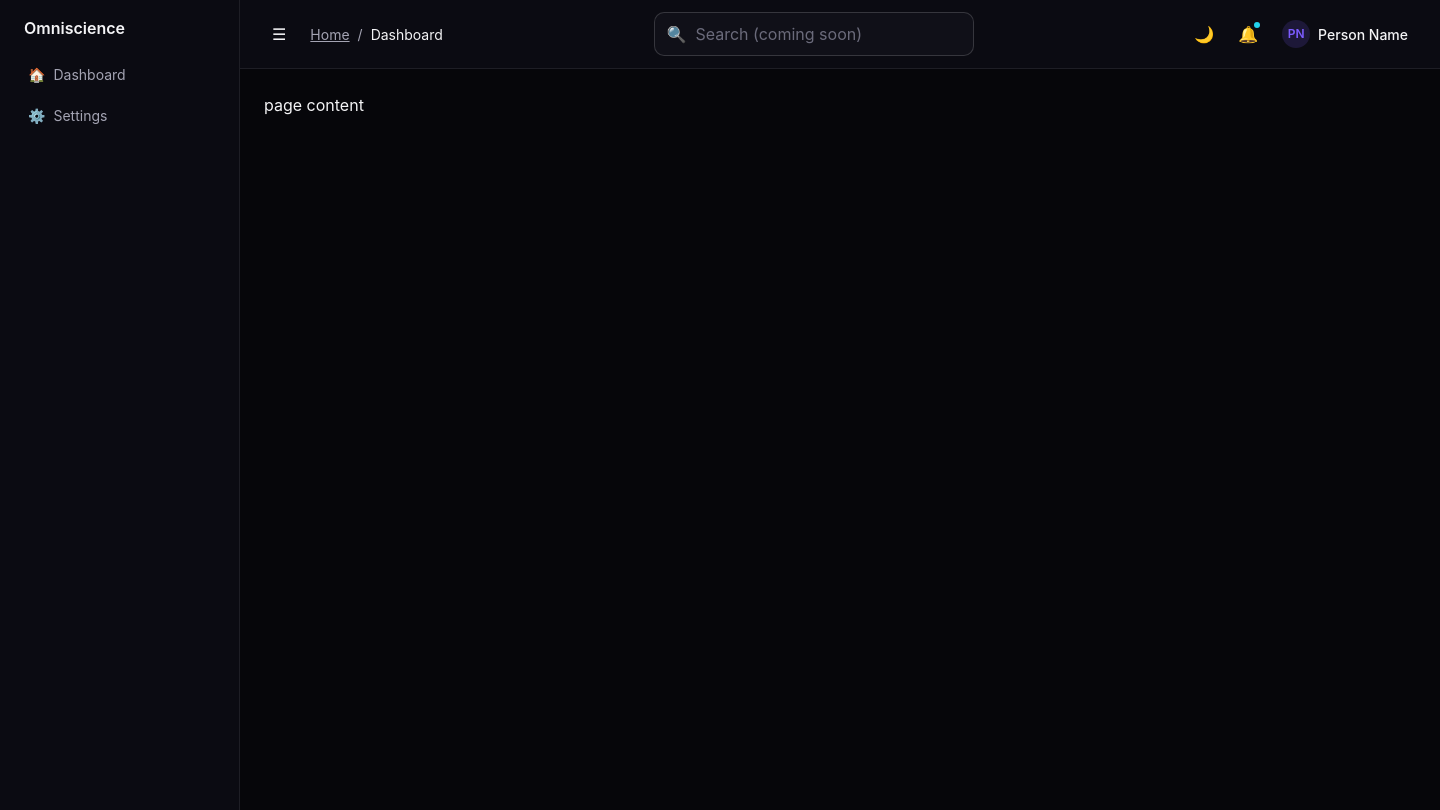
Test: AppShell › desktop (>1024px) › collapses on the first click and expands again on the second — the hamburger always stays usable
Step 1. Click the button named "Collapse navigation" → click(279, 34), box [264,14,294,54]
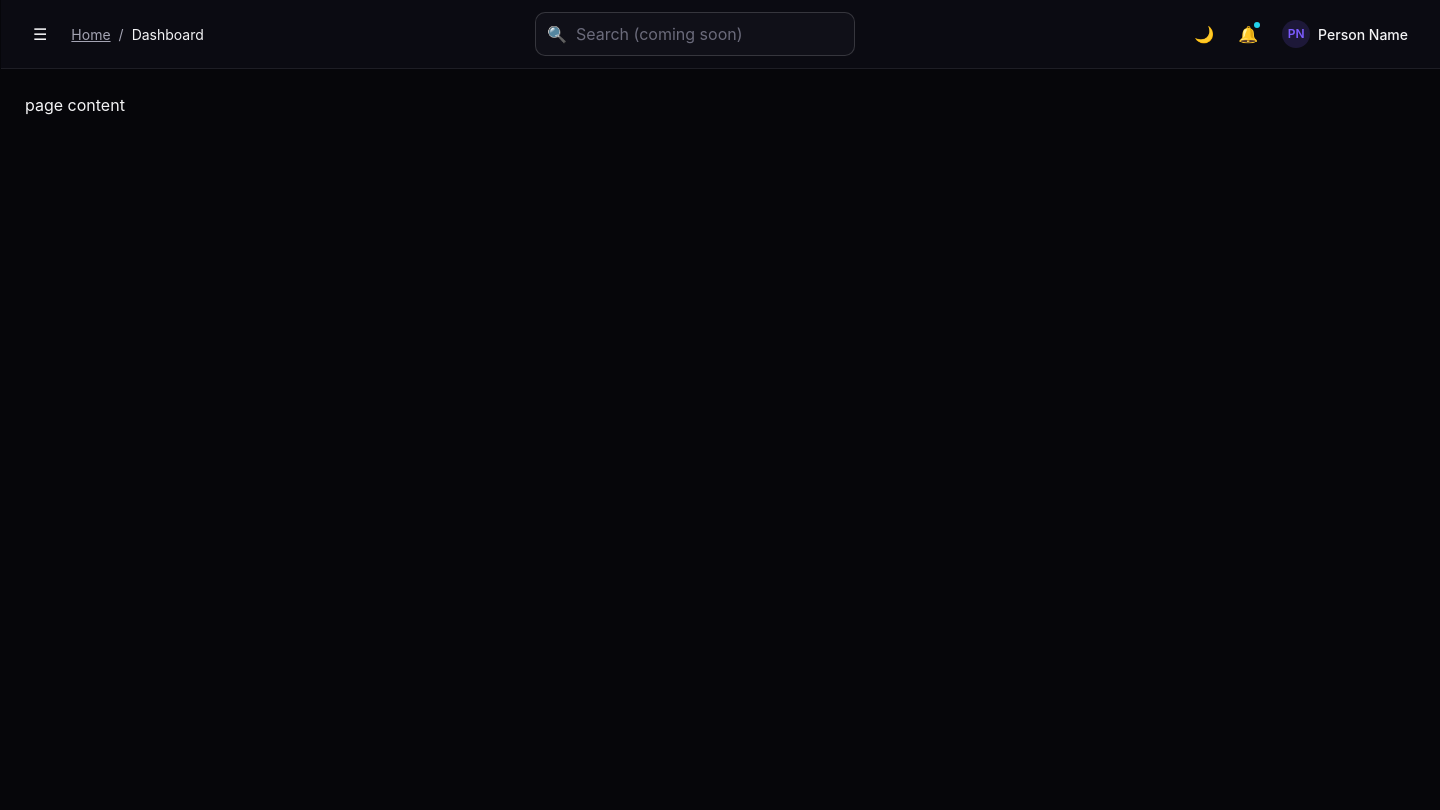
Expected: the button named "Expand navigation" is collapsed
Step 2. Click the button named "Expand navigation" → click(40, 34), box [25,14,55,54]
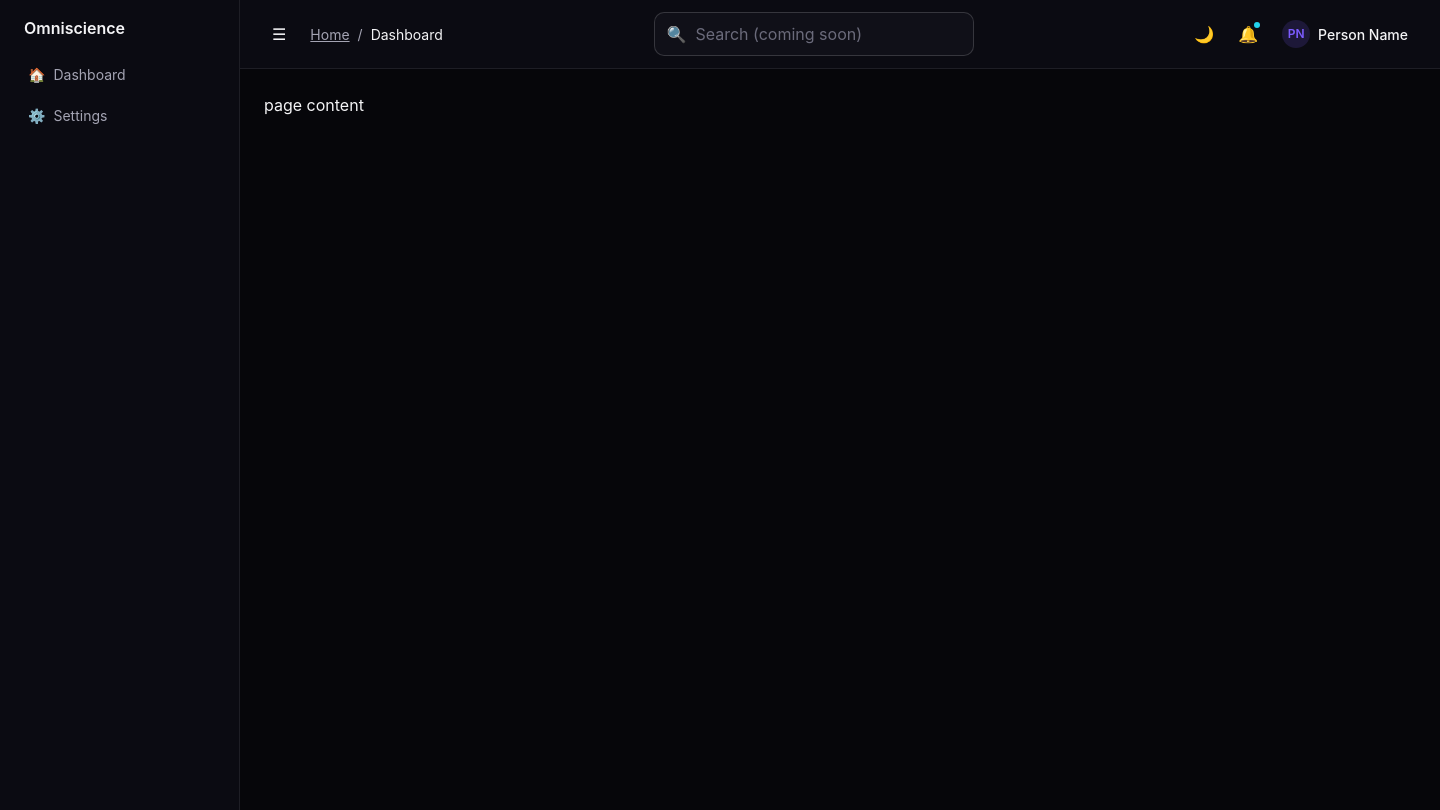
Expected: the button named "Collapse navigation" is expanded
Step 3. Click the button named "Collapse navigation" → click(279, 34), box [264,14,294,54]
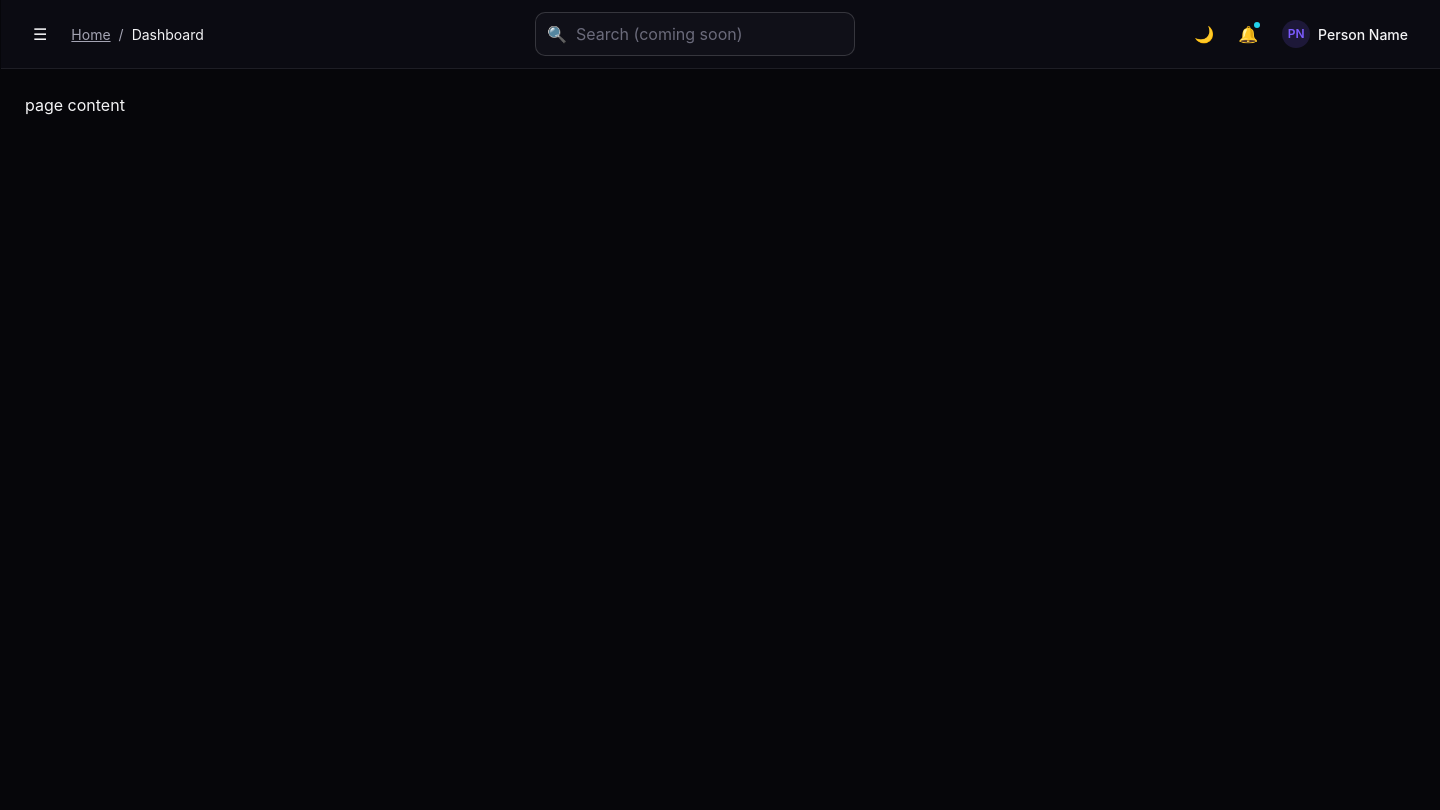
Expected: the button named "Expand navigation" is collapsed, [25,14,55,54]
